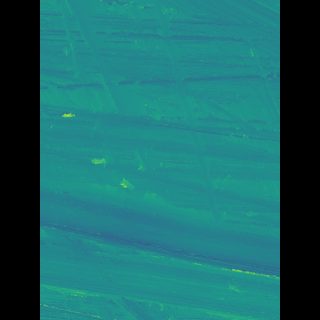Loch: (69, 186, 250, 319)
